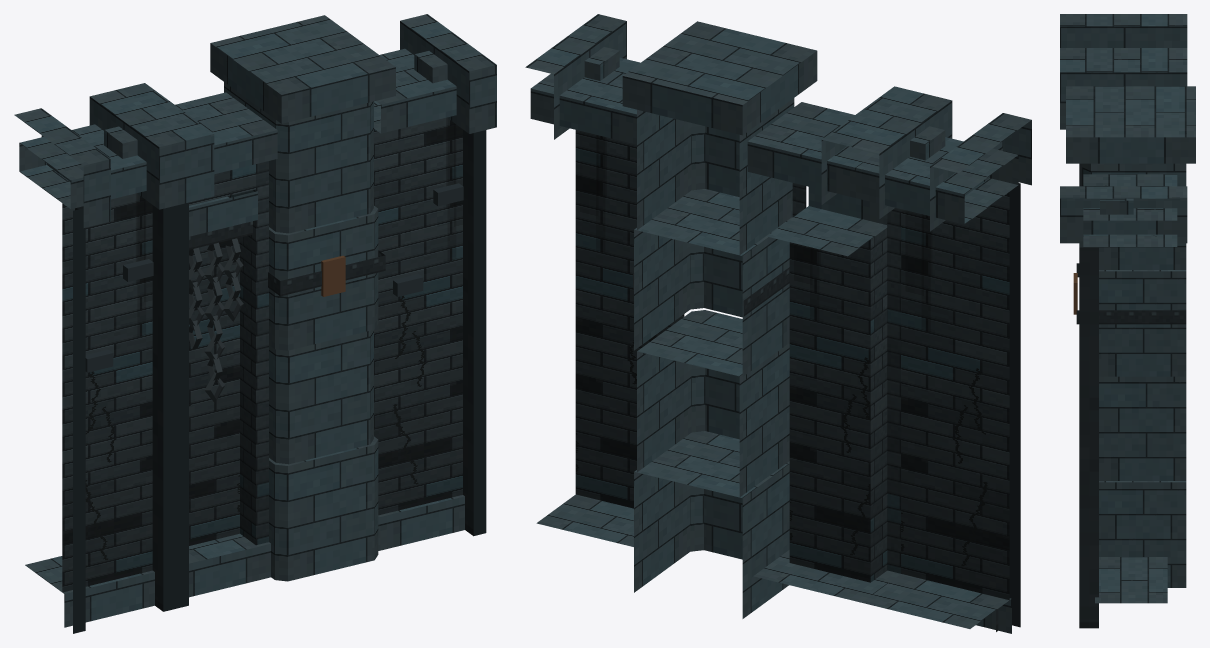
The model's file is T1_Mid_C.fbx.
3 views of the same model, side by side, from view 1: azimuth 30°, elevation 25°; view 2: azimuth 150°, elevation 25°; view 3: azimuth 270°, elevation 25° (orthographic). The views are drawn at different scales.
Parts seen in each view (by area): view 1: T1_Mid_C; view 2: T1_Mid_C; view 3: T1_Mid_C.
Part boxes in pixels (box(x1,y1,x2,y2)): T1_Mid_C: box(14, 14, 496, 633); T1_Mid_C: box(525, 14, 1031, 633); T1_Mid_C: box(1060, 14, 1195, 628).
Size of the model in its own units: 4.5 by 5.15 by 1.4.
